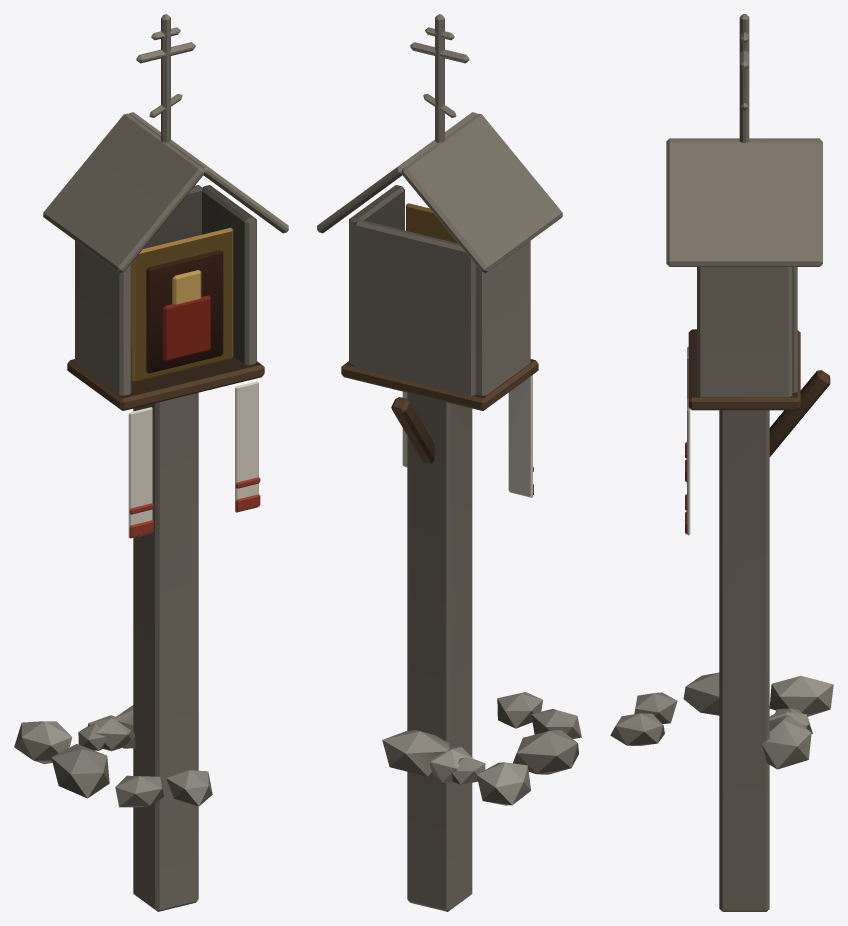
The model's file is shrine.glb.
3 renders of one model, left to right at view 1: azimuth 30°, elevation 25°; view 2: azimuth 150°, elevation 25°; view 3: azimuth 270°, elevation 25°, orthographic.
Visible parts, largest first — view 1: wood-001, plank-001, dark-icon-001, stone-001, cloth-towel-001, wood-002; view 2: wood-001, plank-001, stone-001, cloth-towel-001, wood-002, dark-icon-001; view 3: wood-001, plank-001, stone-001, wood-002, cloth-towel-001.
Part boxes in pixels (box(x1,y1,x2,y2)): wood-001: box(67, 185, 264, 911); plank-001: box(43, 112, 288, 272); dark-icon-001: box(132, 227, 233, 382); stone-001: box(14, 705, 212, 807); cloth-towel-001: box(128, 381, 260, 538); wood-002: box(136, 14, 195, 142); wood-001: box(341, 185, 538, 911); plank-001: box(317, 112, 562, 272); stone-001: box(382, 692, 581, 805); cloth-towel-001: box(402, 375, 533, 497); wood-002: box(410, 14, 469, 142); dark-icon-001: box(406, 203, 458, 243); wood-001: box(688, 267, 830, 911); plank-001: box(666, 138, 822, 266); stone-001: box(610, 672, 833, 769); wood-002: box(739, 14, 749, 142); cloth-towel-001: box(685, 346, 690, 535).
Size of the model in its own units: 0.8488 by 3.5 by 0.7984.
